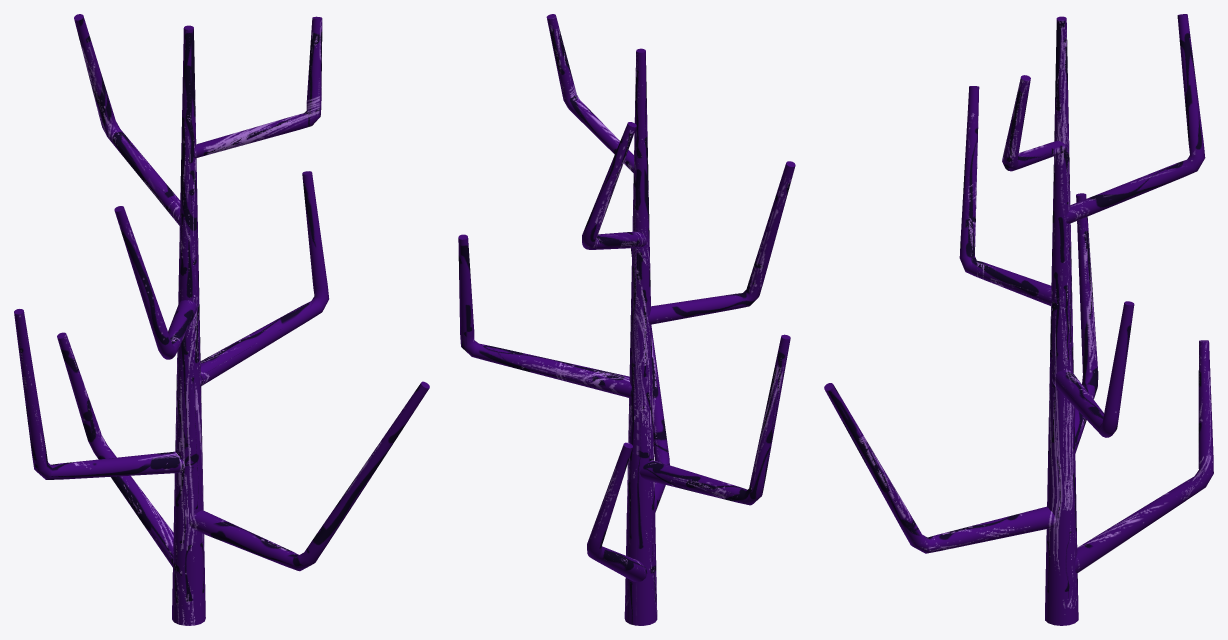
File: VectorTree.glb
3 views of the same model, side by side, from view 1: azimuth 30°, elevation 25°; view 2: azimuth 150°, elevation 25°; view 3: azimuth 270°, elevation 25° (orthographic). The views are drawn at different scales.
Parts seen in each view (by area): view 1: SimpleVectorAlienTree1; view 2: SimpleVectorAlienTree1; view 3: SimpleVectorAlienTree1.
Boxes of the visible parts, <box> form: SimpleVectorAlienTree1: <box>14,14,429,625</box>; SimpleVectorAlienTree1: <box>458,14,795,625</box>; SimpleVectorAlienTree1: <box>824,14,1213,625</box>.
Bounding box in the file's own units: 4.06 × 7 × 4.12.
1 material, 1 textured.
